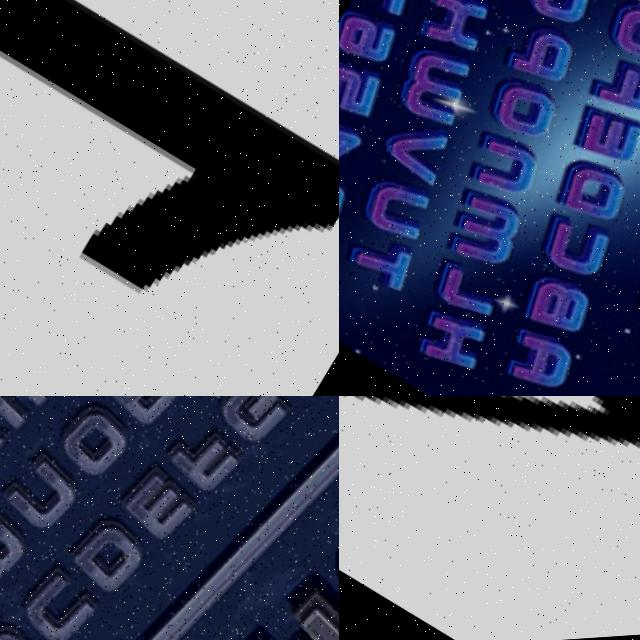1: (0, 0, 339, 396)
3: (339, 150, 357, 237)
4: (339, 95, 373, 186)
5: (339, 38, 394, 133)
6: (339, 0, 403, 76)
7: (343, 0, 430, 38)
A: (339, 396, 640, 640)
